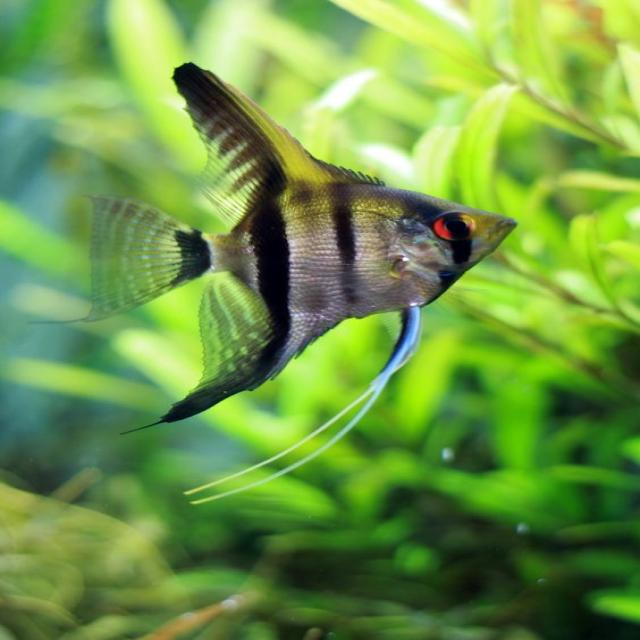AngelFish: (73, 58, 514, 500)
